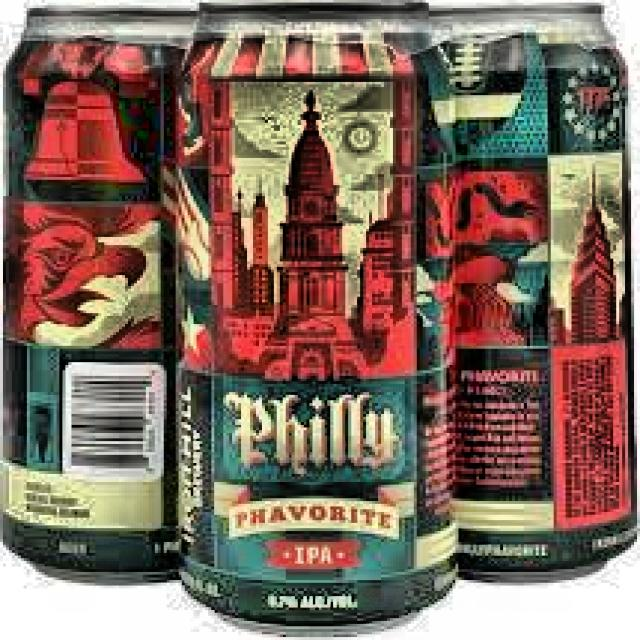can: (168, 0, 463, 640), (0, 0, 218, 595), (424, 3, 640, 590)
